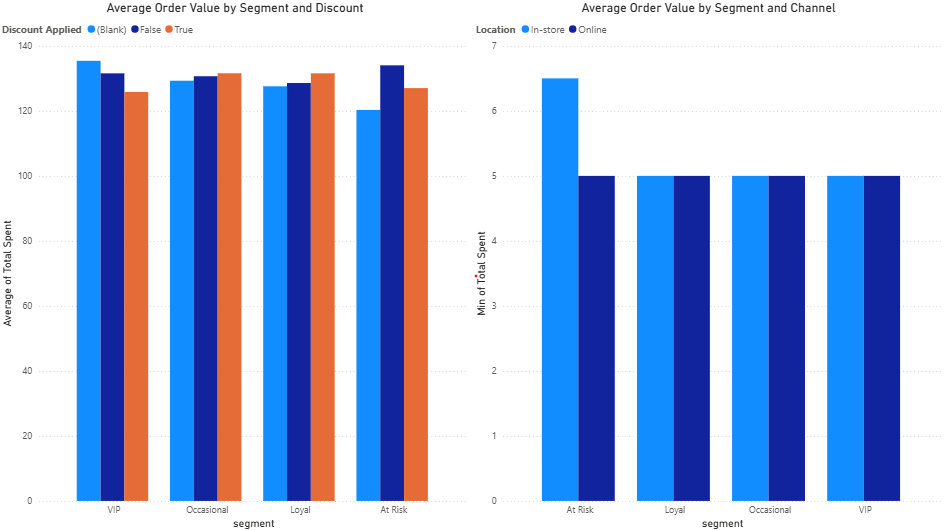

The page's visual inventory and layout, read from the dashboard file:
{"tool":"powerbi","page":{"name":"Promotions & Channels","canvas":[1280,720],"ordinal":1},"visuals":[{"type":"clusteredColumnChart","title":"Average Order Value by Segment and Discount","fields":{"Category":["rfm_segments.segment"],"Series":["raw_sales.Discount Applied"],"Y":["Avg(raw_sales.Total Spent)"]},"box":[0,0,640.5,720.3],"z":0},{"type":"clusteredColumnChart","title":"Average Order Value by Segment and Channel","fields":{"Category":["rfm_segments.segment"],"Series":["raw_sales.Location"],"Y":["Min(raw_sales.Total Spent)"]},"box":[640.5,0,639.2,720.3],"z":1}]}

Visuals, with their boxes in screenshot pixels (x1, y1, x2, y2), scaled from the page's 1280x720 canvas onto the 945x530 screenshot:
"Average Order Value by Segment and Discount" clusteredColumnChart: 0/0/473/529
"Average Order Value by Segment and Channel" clusteredColumnChart: 473/0/944/529
